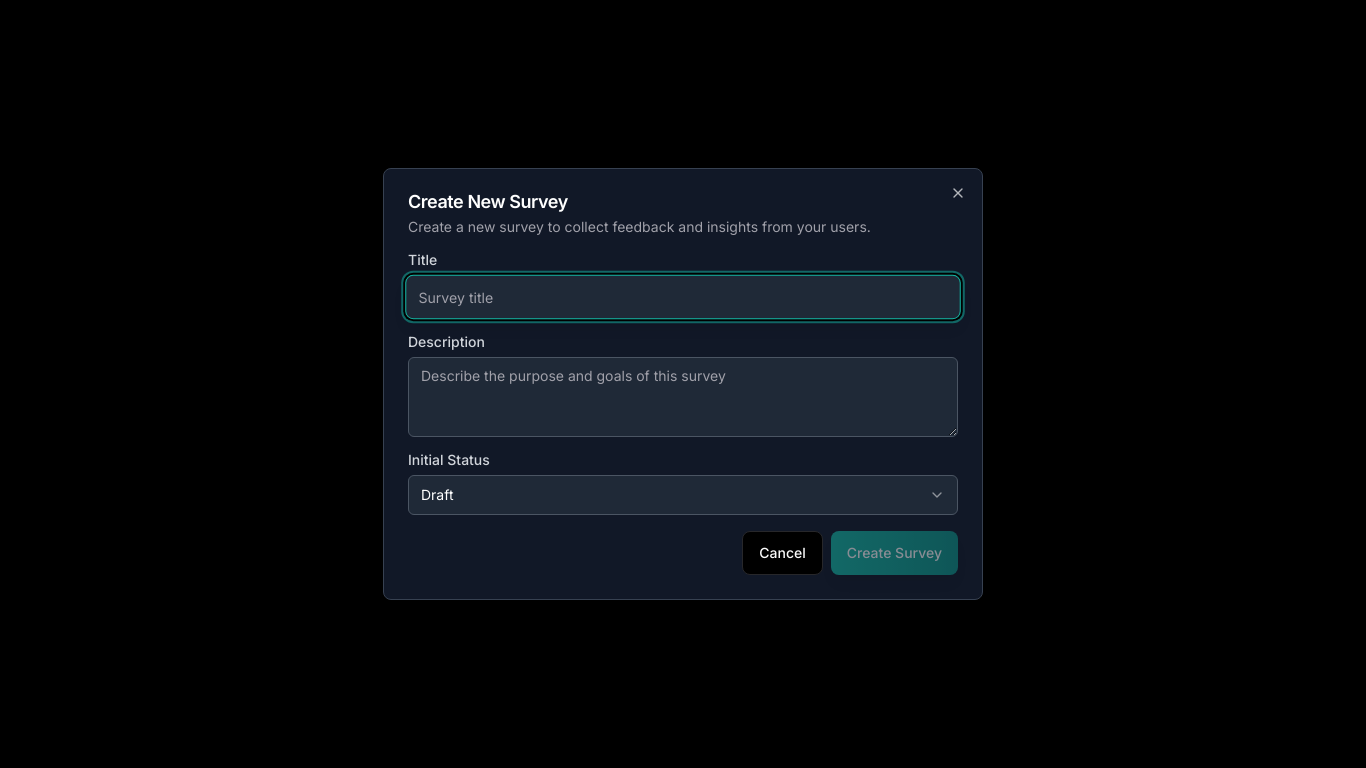
Test case: SurveyCreateDialog › handles creation error
Type "Test Survey" into the field labelled "Title". click: (683, 297)
box: [405, 275, 961, 319]
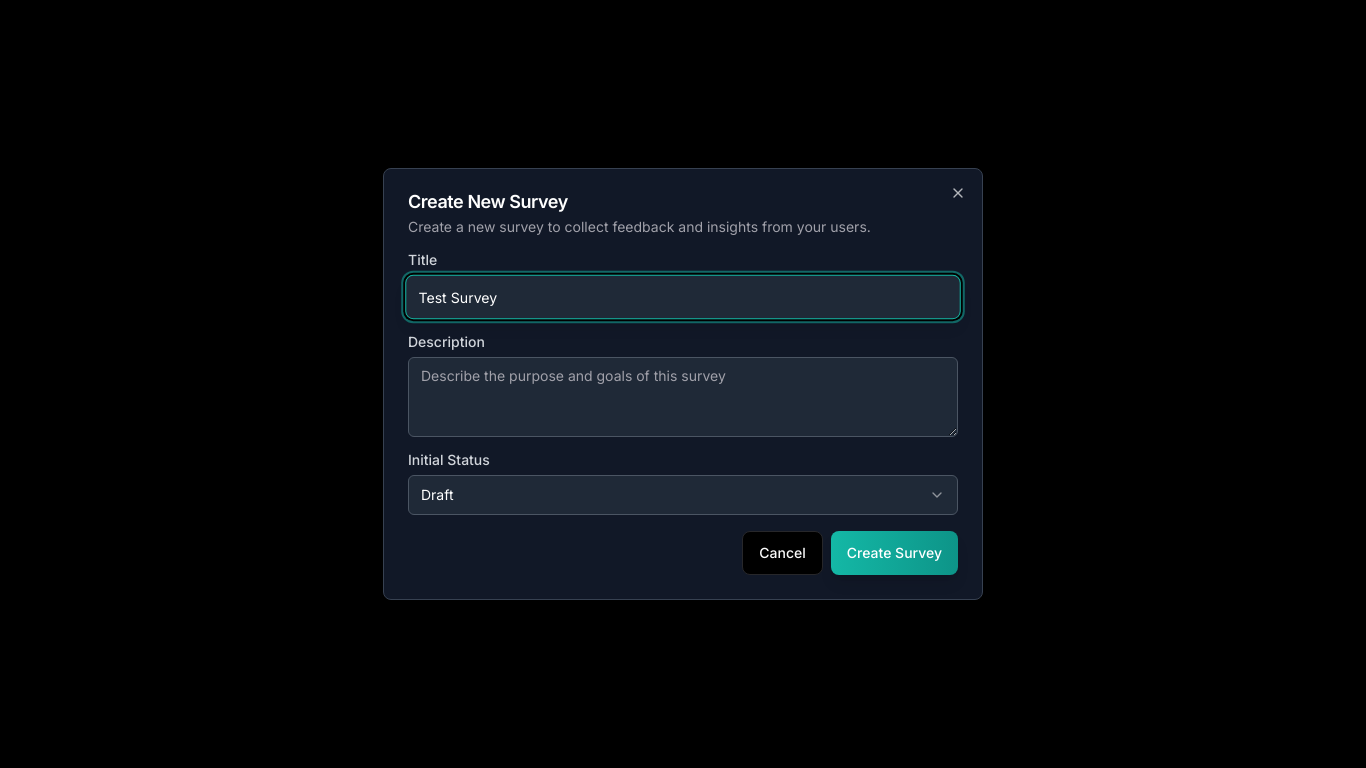
Click the button "Create Survey". click: (894, 553)
box: [831, 531, 958, 575]
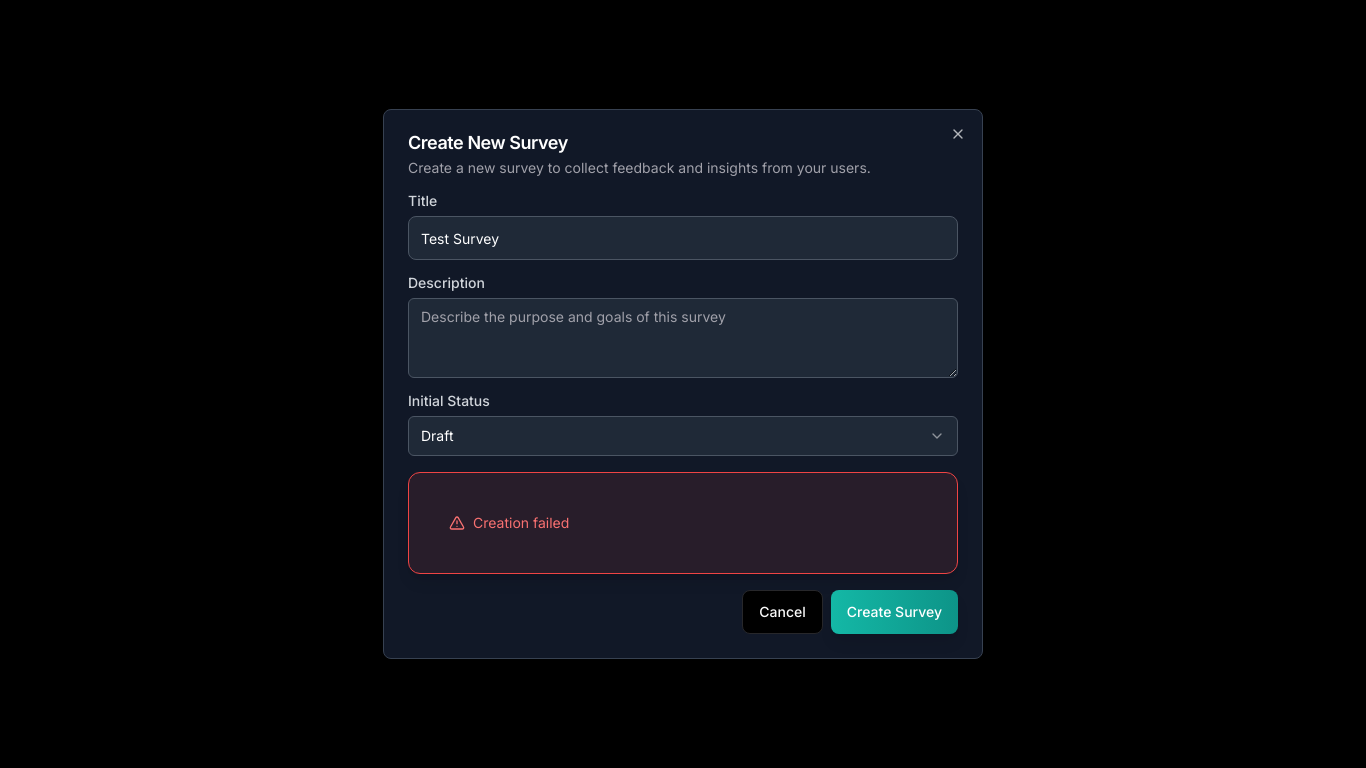
expect the text "Creation failed" is shown: met, box [473, 513, 569, 533]
